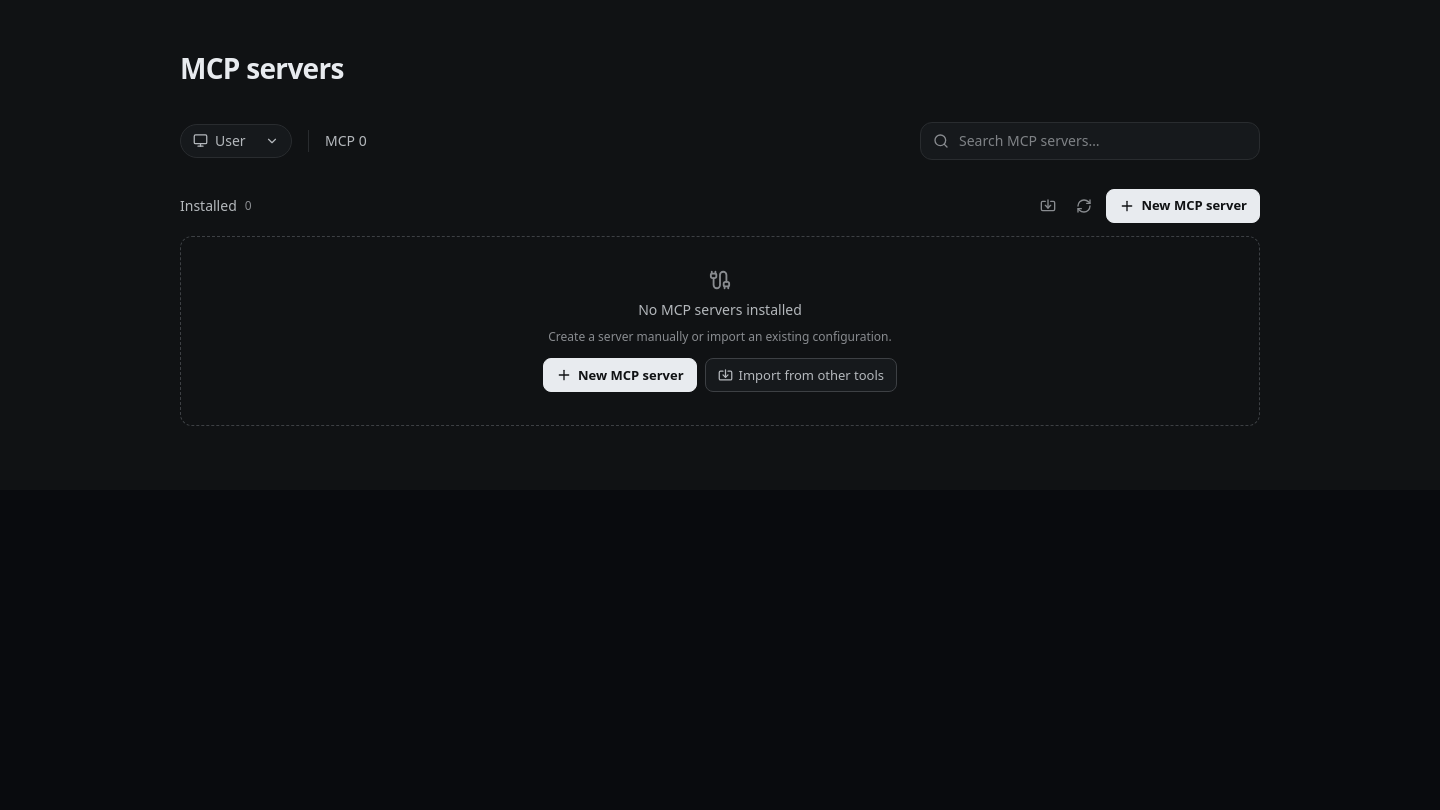
Scenario: McpManager › uses the selected project path in the new-server scope hint
Select "repo" in the dropdown with test id "mcp-scope-target" at (237, 141), box [215, 130, 259, 151]
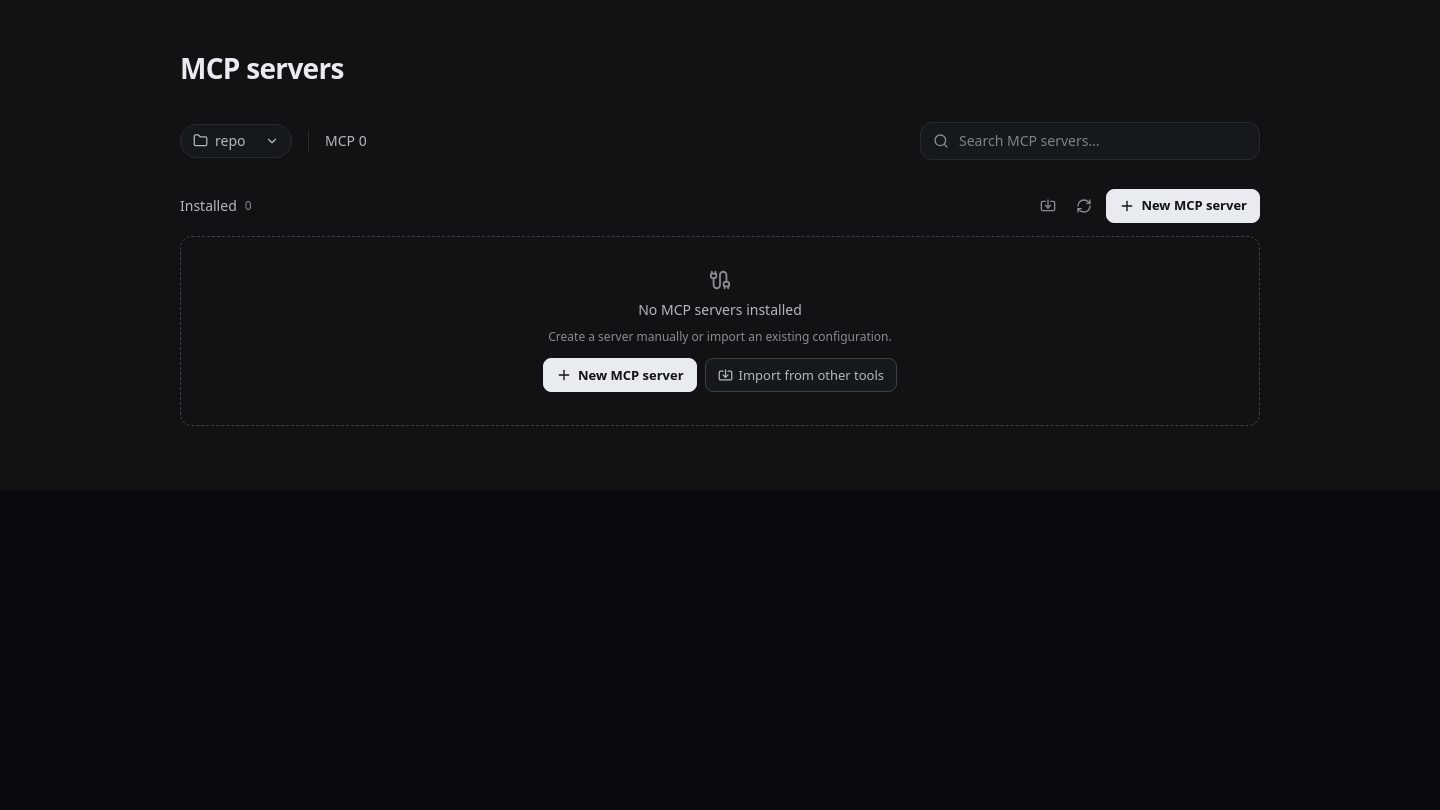
Click the button with test id "new-mcp-server" at (1183, 206), box [1106, 189, 1260, 223]
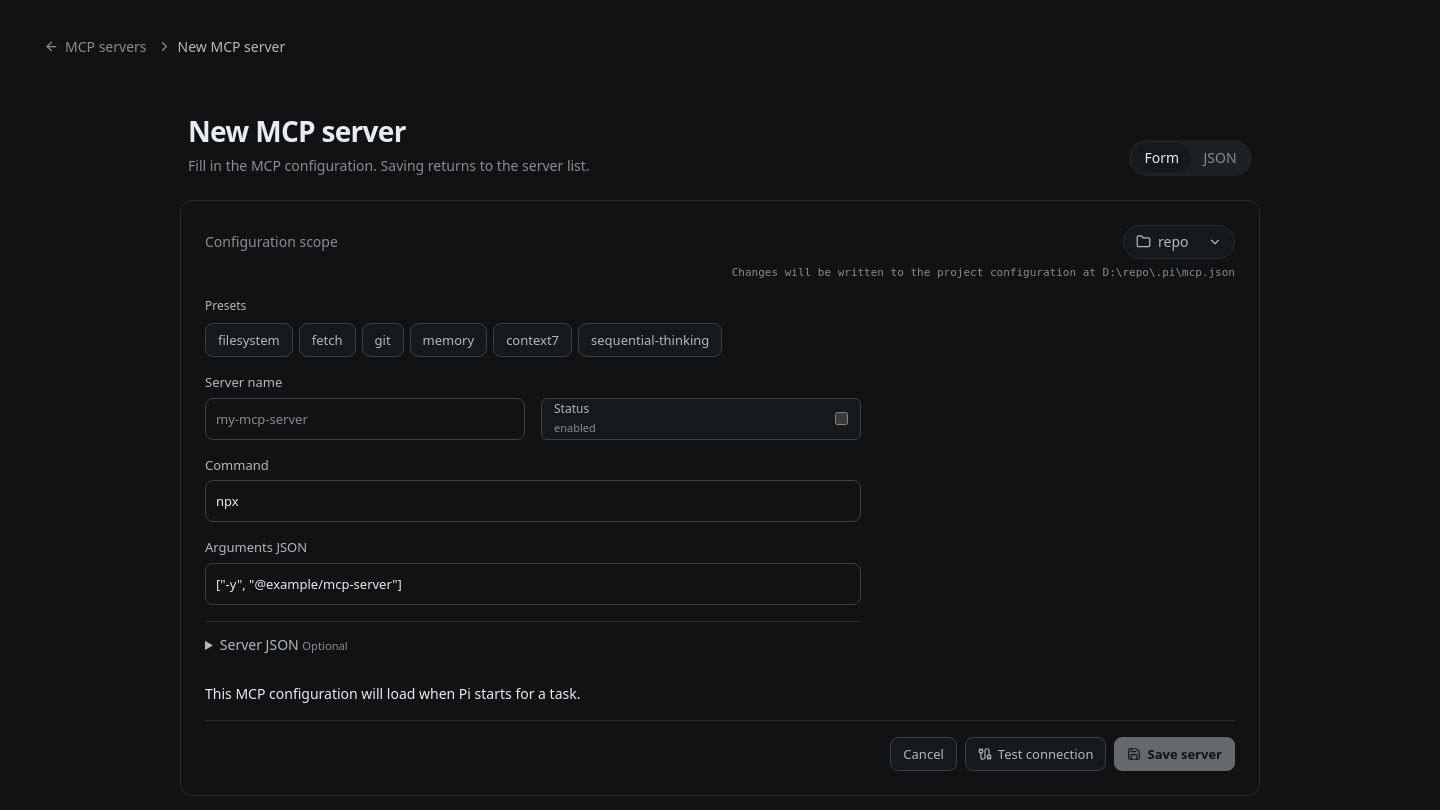
Expected: the element with class "mcp-editor-scope" shows "D:\\repo\\.pi\\mcp.json", [732, 266, 1235, 279]
